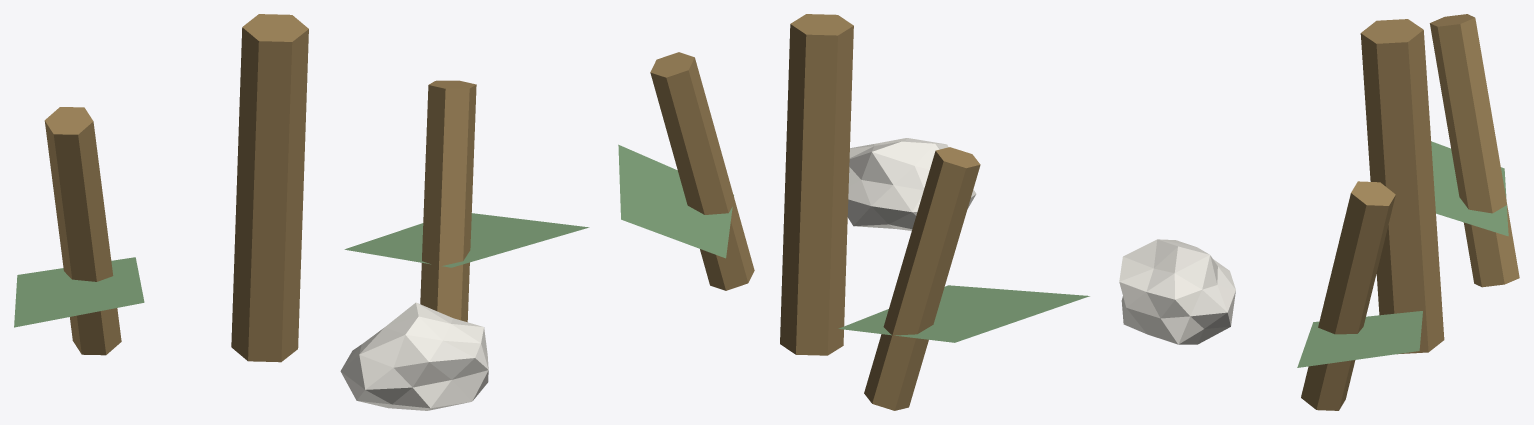
Rendered from t1_fiber_depleted.glb.
The picture shows the model from 3 angles, left to right: view 1: azimuth 30°, elevation 25°; view 2: azimuth 150°, elevation 25°; view 3: azimuth 270°, elevation 25°; orthographic projection. The views are drawn at different scales.
Visible parts, largest first — view 1: CutCenterStem, DroppedCottonTuft, CutRightStem, CutLeftStem, WiltedLeafLeft, WiltedLeafRight; view 2: CutCenterStem, CutLeftStem, CutRightStem, DroppedCottonTuft, WiltedLeafRight, WiltedLeafLeft; view 3: CutCenterStem, CutLeftStem, DroppedCottonTuft, CutRightStem, WiltedLeafRight, WiltedLeafLeft.
Part boxes in pixels (<box>): CutCenterStem: <box>231,14,308,362</box>; DroppedCottonTuft: <box>340,302,488,410</box>; CutRightStem: <box>420,80,476,322</box>; CutLeftStem: <box>44,107,121,355</box>; WiltedLeafLeft: <box>14,257,144,327</box>; WiltedLeafRight: <box>344,213,589,267</box>; CutCenterStem: <box>780,14,853,355</box>; CutLeftStem: <box>864,147,980,410</box>; CutRightStem: <box>650,52,754,290</box>; DroppedCottonTuft: <box>847,138,976,230</box>; WiltedLeafRight: <box>618,144,733,258</box>; WiltedLeafLeft: <box>838,285,1089,342</box>; CutCenterStem: <box>1360,19,1444,354</box>; CutLeftStem: <box>1429,14,1519,287</box>; DroppedCottonTuft: <box>1119,239,1235,344</box>; CutRightStem: <box>1301,181,1395,410</box>; WiltedLeafRight: <box>1297,311,1422,367</box>; WiltedLeafLeft: <box>1431,141,1508,236</box>.
Size of the model in its own units: 0.6481 by 0.3837 by 0.4436.
